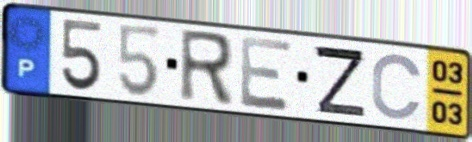5: (116, 22, 163, 101), (59, 17, 104, 94)
C: (369, 51, 426, 123)
E: (238, 33, 295, 114)
R: (176, 27, 236, 109)
Z: (311, 42, 369, 120)
